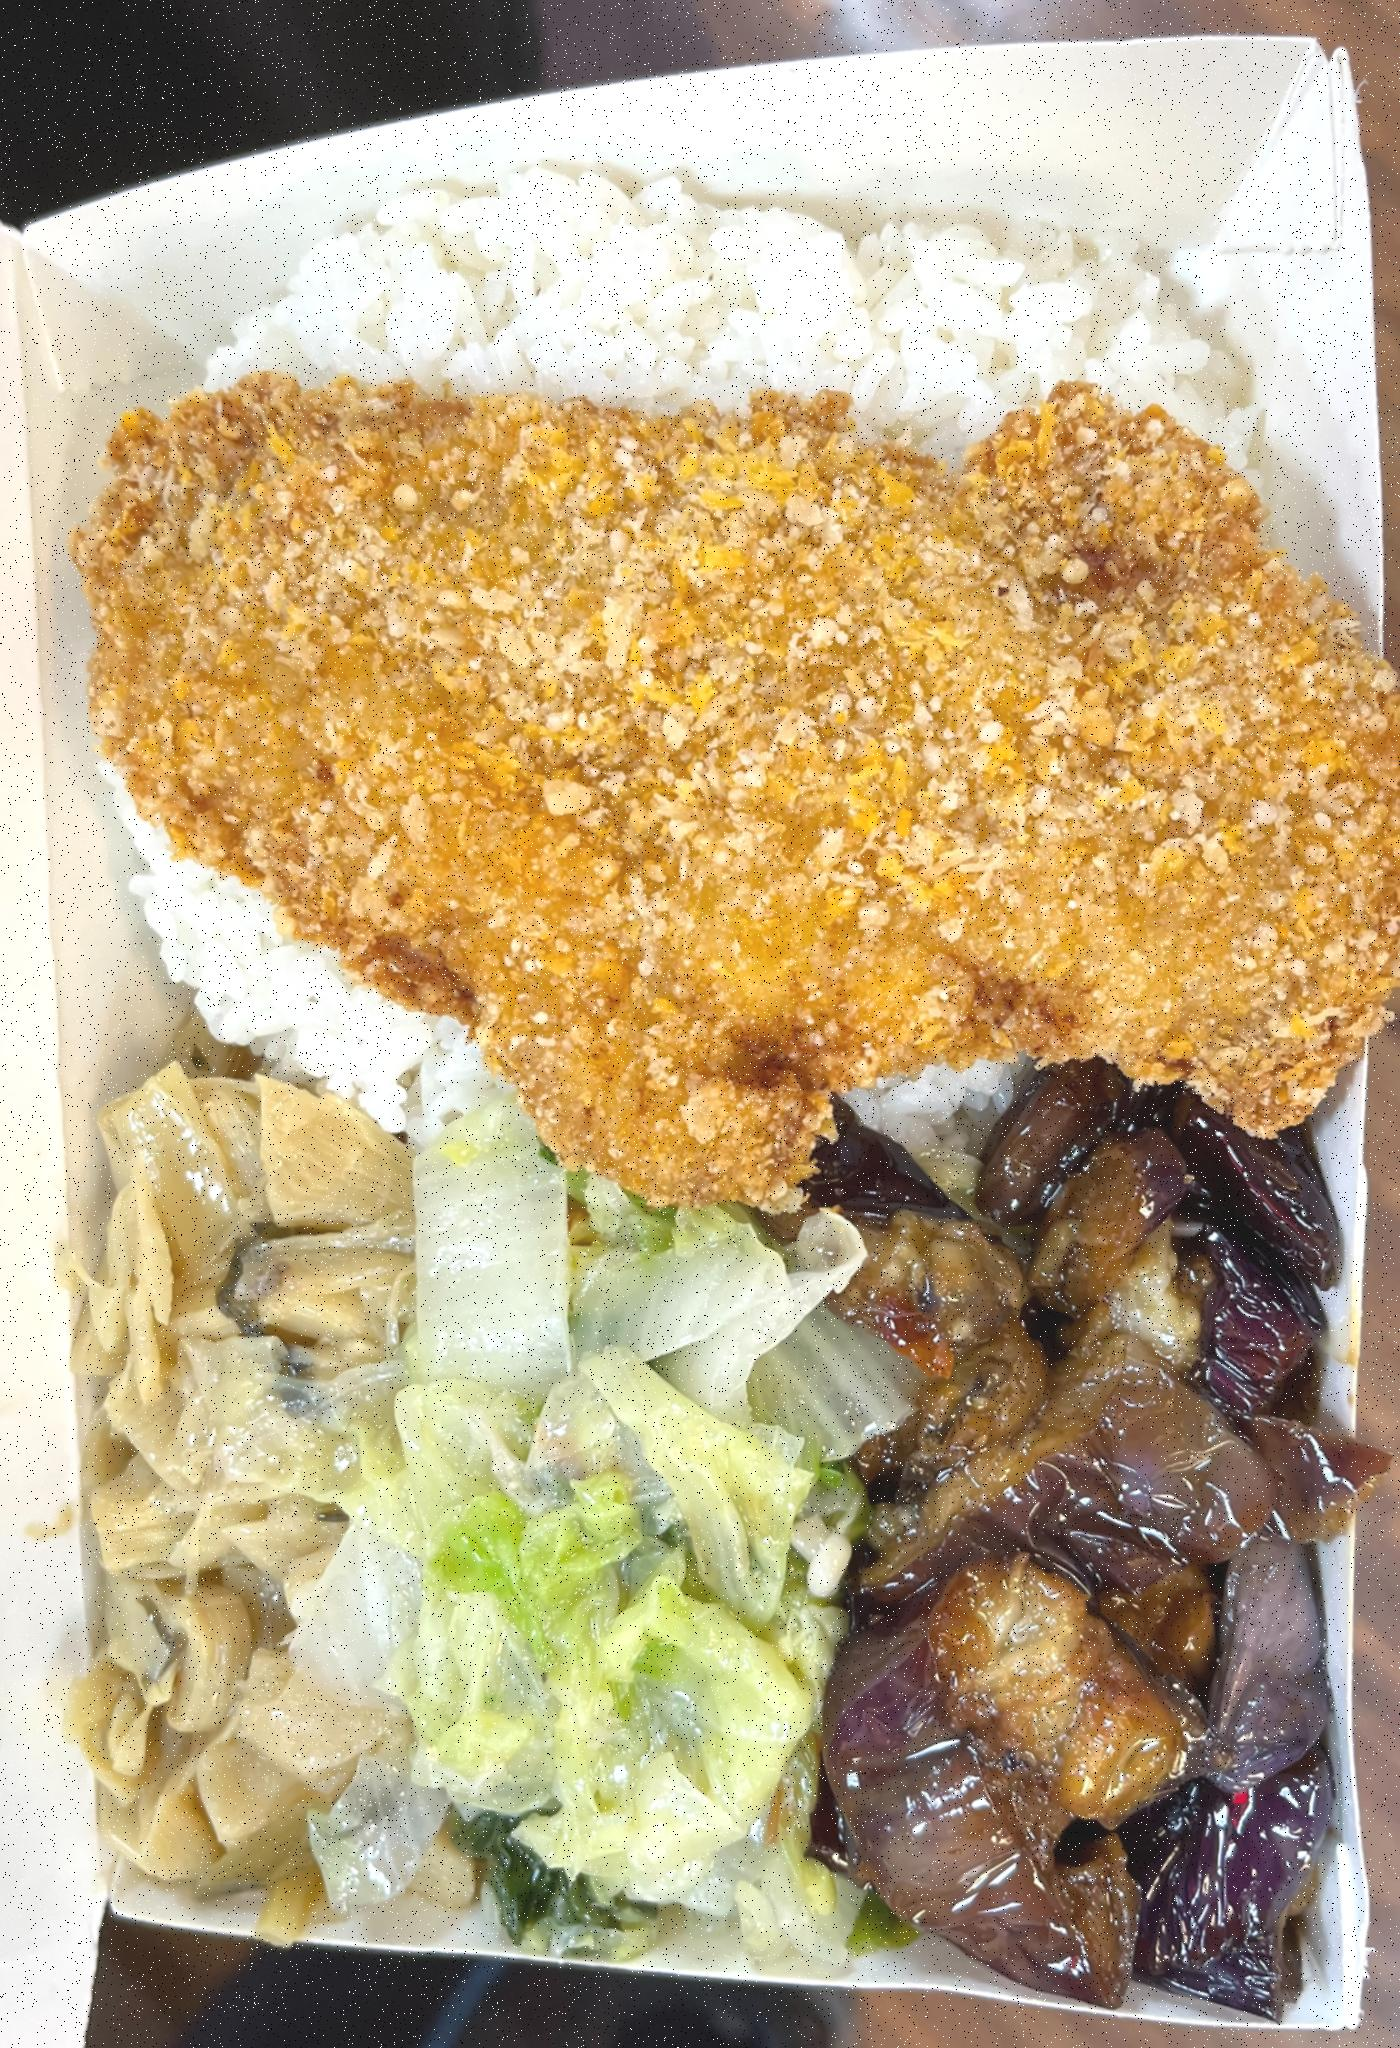box: (0, 26, 1394, 2046)
chicken steak: (72, 373, 1395, 1134)
side dish: (840, 1082, 1349, 2003), (353, 1138, 865, 1908), (56, 1038, 425, 1908)
white rice: (101, 163, 1294, 1064)
